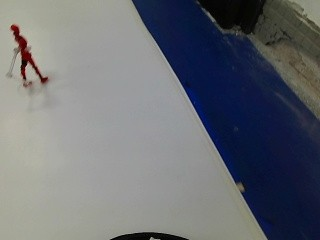pedestrian: (9, 23, 48, 85)
